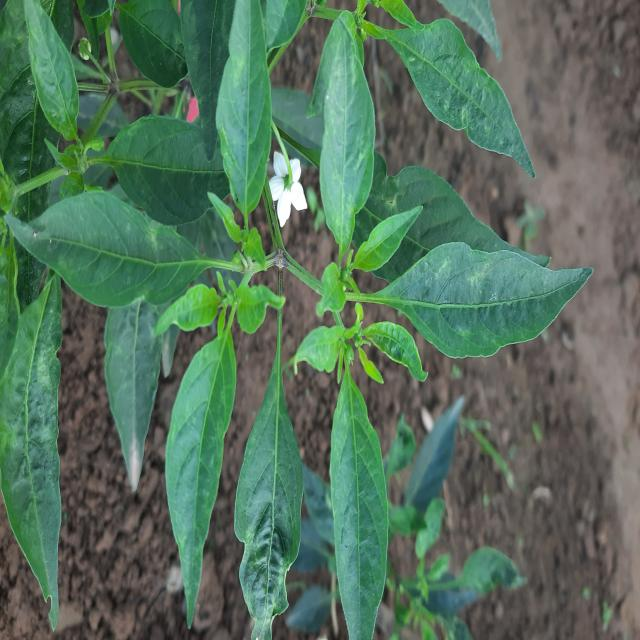sehat: (4, 173, 207, 313), (324, 360, 416, 640)
